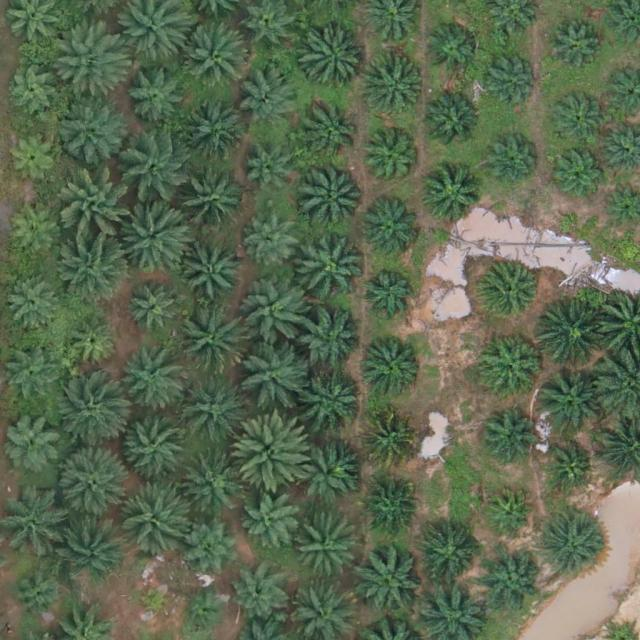Healthy: (236, 414, 314, 493), (355, 545, 426, 616), (175, 305, 246, 376), (295, 232, 366, 303), (241, 279, 312, 350), (237, 338, 307, 409), (178, 375, 248, 446), (55, 448, 126, 518), (56, 512, 126, 583), (536, 302, 607, 372), (299, 161, 369, 232), (175, 169, 245, 240), (183, 24, 253, 95), (120, 200, 190, 271), (64, 174, 134, 245), (116, 348, 186, 418), (120, 410, 190, 480), (119, 484, 189, 554), (54, 380, 124, 450), (123, 135, 193, 205), (60, 234, 130, 304), (56, 95, 126, 165), (56, 23, 126, 93), (300, 312, 363, 375), (294, 437, 357, 500), (180, 451, 243, 514), (420, 93, 483, 156), (364, 58, 427, 121), (182, 241, 245, 304), (537, 370, 599, 433), (481, 334, 543, 397), (362, 334, 424, 397), (304, 371, 366, 434), (295, 519, 357, 582), (182, 514, 244, 577), (2, 411, 65, 473), (480, 262, 542, 325), (421, 165, 483, 228), (302, 30, 364, 93), (303, 102, 365, 165), (241, 67, 303, 130), (183, 102, 245, 165), (123, 61, 185, 124), (542, 517, 604, 579), (483, 550, 545, 612), (360, 200, 422, 262), (479, 408, 534, 463), (424, 529, 479, 584), (232, 569, 287, 624), (65, 317, 120, 372), (11, 568, 66, 623), (2, 348, 57, 403), (481, 51, 536, 106), (553, 146, 608, 201), (544, 18, 599, 73), (425, 21, 480, 76), (366, 134, 421, 189), (361, 267, 416, 322), (243, 151, 298, 206), (128, 283, 183, 338), (4, 130, 59, 185), (8, 207, 63, 262), (363, 479, 417, 534), (243, 494, 297, 549), (485, 135, 539, 190), (551, 93, 605, 148), (247, 216, 301, 271), (6, 66, 60, 121), (7, 275, 61, 330)
Small: (181, 589, 228, 637), (487, 489, 534, 537), (546, 443, 593, 490), (135, 582, 174, 621)
Yellow: (361, 411, 416, 466)
